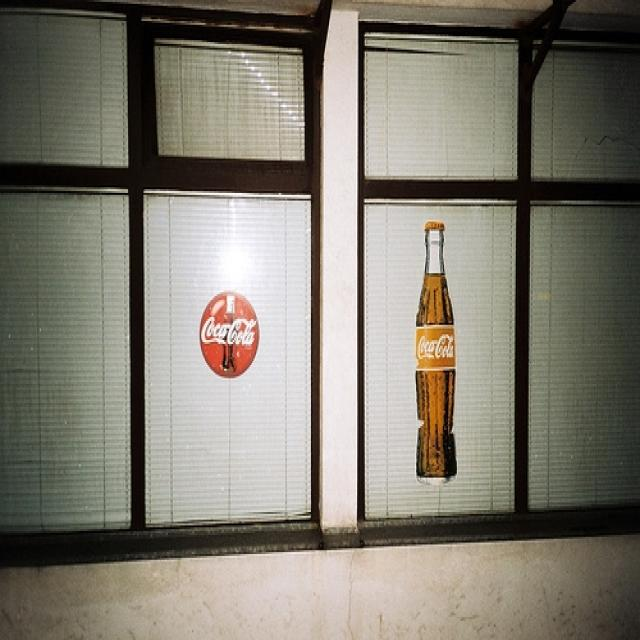cocacola: (200, 307, 260, 364), (415, 333, 465, 368)
